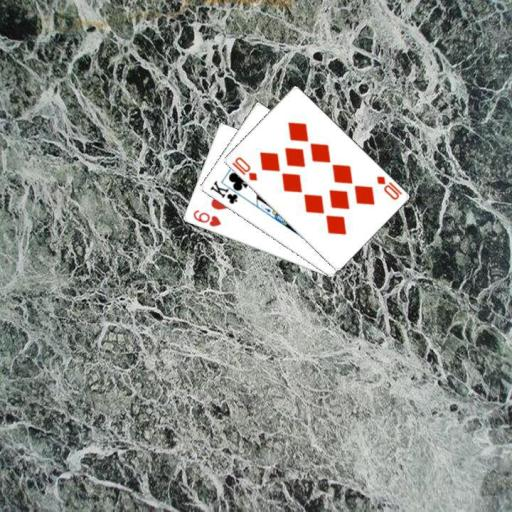10D: (228, 154, 258, 182), (374, 173, 404, 201)
6H: (190, 207, 222, 228)
KC: (207, 177, 245, 206)
